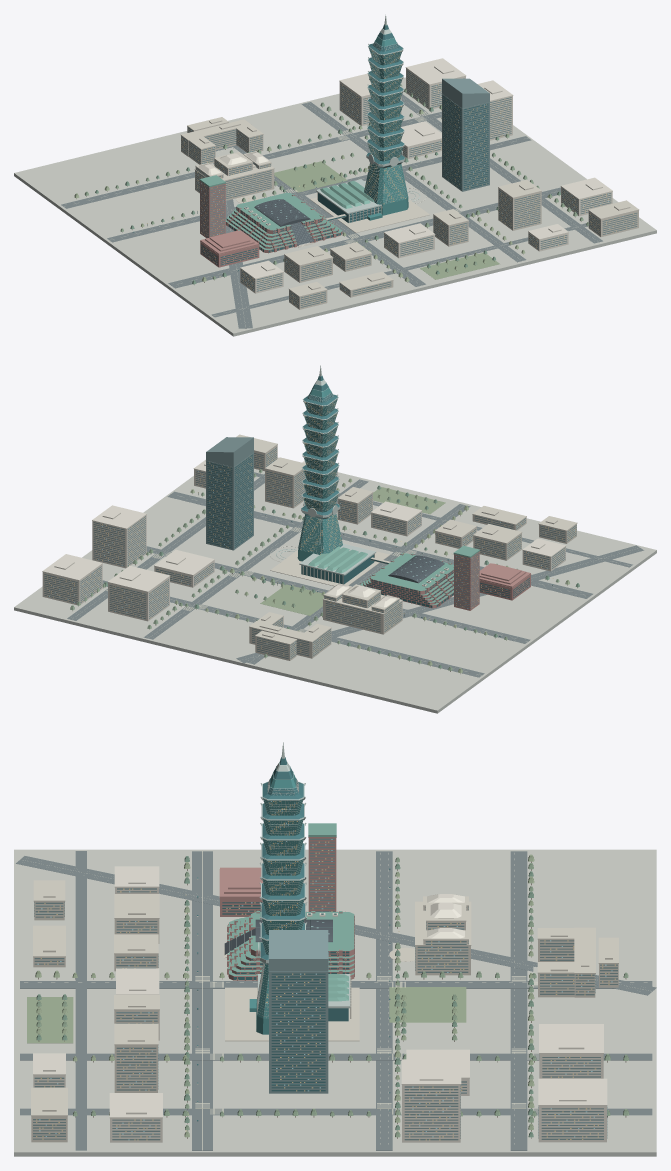
Rendered from taipei101.glb.
3 renders of one model, top to bottom at view 1: azimuth 30°, elevation 25°; view 2: azimuth 150°, elevation 25°; view 3: azimuth 270°, elevation 25°, orthographic. The views are drawn at different scales.
Visible parts, largest first — view 1: foundation__Pale stone paving, roads__Road asphalt, eastblock__Ivory concrete, easttower__Neighbour glass, taipei101__Jade curtain wall, taipei101__Pale aluminium, easttower__Deep jade glazing, cityhall__Warm limestone, foundation__Maquette foundation, hyatt__Warm limestone, twtc__Patinated green roof, eastblock__Neighbour glass (+35 smaller); view 2: foundation__Pale stone paving, roads__Road asphalt, eastblock__Ivory concrete, easttower__Neighbour glass, taipei101__Jade curtain wall, eastblock__Neighbour glass, taipei101__Pale aluminium, easttower__Deep jade glazing, cityhall__Warm limestone, hyatt__Warm limestone, foundation__Maquette foundation, taipei101__Deep jade glazing (+29 smaller); view 3: foundation__Pale stone paving, roads__Road asphalt, eastblock__Ivory concrete, easttower__Neighbour glass, taipei101__Jade curtain wall, cityhall__Warm limestone, eastblock__Neighbour glass, easttower__Deep jade glazing, taipei101__Pale aluminium, hyatt__Warm limestone, foundation__Maquette foundation, taipei101__Deep jade glazing (+30 smaller).
Boxes of the visible parts, left/top/right/bottom form: foundation__Pale stone paving: left=14, top=77, right=656, bottom=333; roads__Road asphalt: left=61, top=94, right=602, bottom=328; eastblock__Ivory concrete: left=339, top=58, right=513, bottom=159; easttower__Neighbour glass: left=442, top=78, right=490, bottom=191; taipei101__Jade curtain wall: left=364, top=36, right=408, bottom=220; taipei101__Pale aluminium: left=316, top=14, right=407, bottom=220; easttower__Deep jade glazing: left=443, top=96, right=488, bottom=189; cityhall__Warm limestone: left=181, top=117, right=263, bottom=164; foundation__Maquette foundation: left=14, top=173, right=656, bottom=336; hyatt__Warm limestone: left=194, top=151, right=274, bottom=203; twtc__Patinated green roof: left=225, top=192, right=342, bottom=249; eastblock__Neighbour glass: left=340, top=70, right=511, bottom=157; foundation__Pale stone paving: left=14, top=457, right=656, bottom=710; roads__Road asphalt: left=67, top=472, right=643, bottom=677; eastblock__Ivory concrete: left=42, top=505, right=214, bottom=621; easttower__Neighbour glass: left=206, top=437, right=254, bottom=550; taipei101__Jade curtain wall: left=297, top=388, right=342, bottom=561; eastblock__Neighbour glass: left=44, top=516, right=213, bottom=619; taipei101__Pale aluminium: left=299, top=365, right=376, bottom=575; easttower__Deep jade glazing: left=207, top=454, right=252, bottom=548; cityhall__Warm limestone: left=249, top=612, right=331, bottom=660; hyatt__Warm limestone: left=322, top=583, right=402, bottom=634; foundation__Maquette foundation: left=14, top=550, right=656, bottom=713; taipei101__Deep jade glazing: left=301, top=375, right=374, bottom=584; foundation__Pale stone paving: left=14, top=849, right=656, bottom=1152; roads__Road asphalt: left=16, top=851, right=656, bottom=1150; eastblock__Ivory concrete: left=401, top=1024, right=607, bottom=1142; easttower__Neighbour glass: left=268, top=930, right=328, bottom=1093; taipei101__Jade curtain wall: left=249, top=772, right=304, bottom=1034; cityhall__Warm limestone: left=537, top=927, right=618, bottom=997; eastblock__Neighbour glass: left=404, top=1057, right=607, bottom=1140; easttower__Deep jade glazing: left=271, top=973, right=325, bottom=1091; taipei101__Pale aluminium: left=257, top=742, right=350, bottom=1018; hyatt__Warm limestone: left=389, top=896, right=471, bottom=975; foundation__Maquette foundation: left=14, top=1152, right=656, bottom=1156; taipei101__Deep jade glazing: left=260, top=757, right=348, bottom=1021.
Bounding box in the file's own units: 1170 × 516 × 1051.
